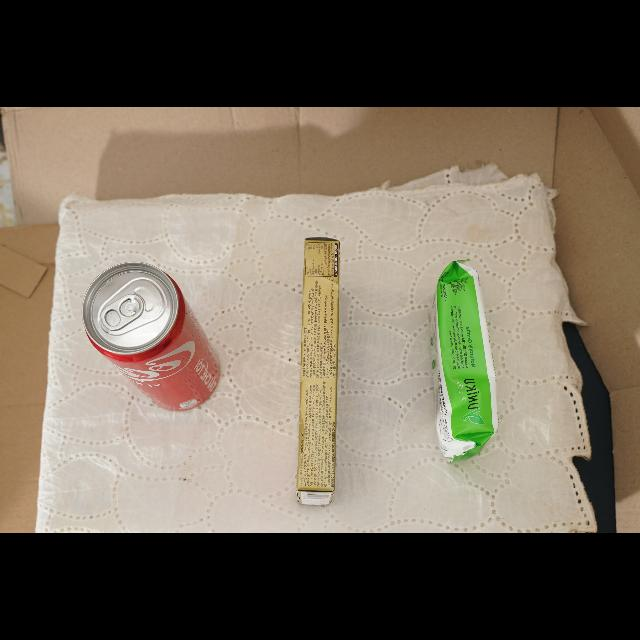banh_toppo_socola: (297, 237, 339, 505)
coca_cola: (83, 263, 220, 411)
khan_giay: (433, 261, 498, 463)
